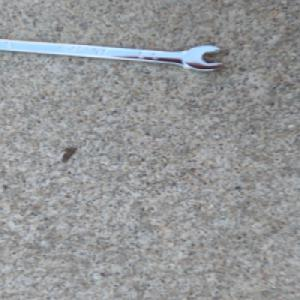Wrench: (0, 36, 226, 73)
